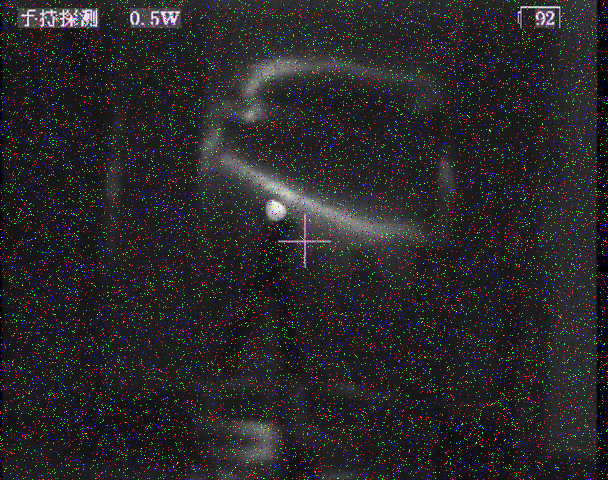my: (263, 195, 288, 223)
